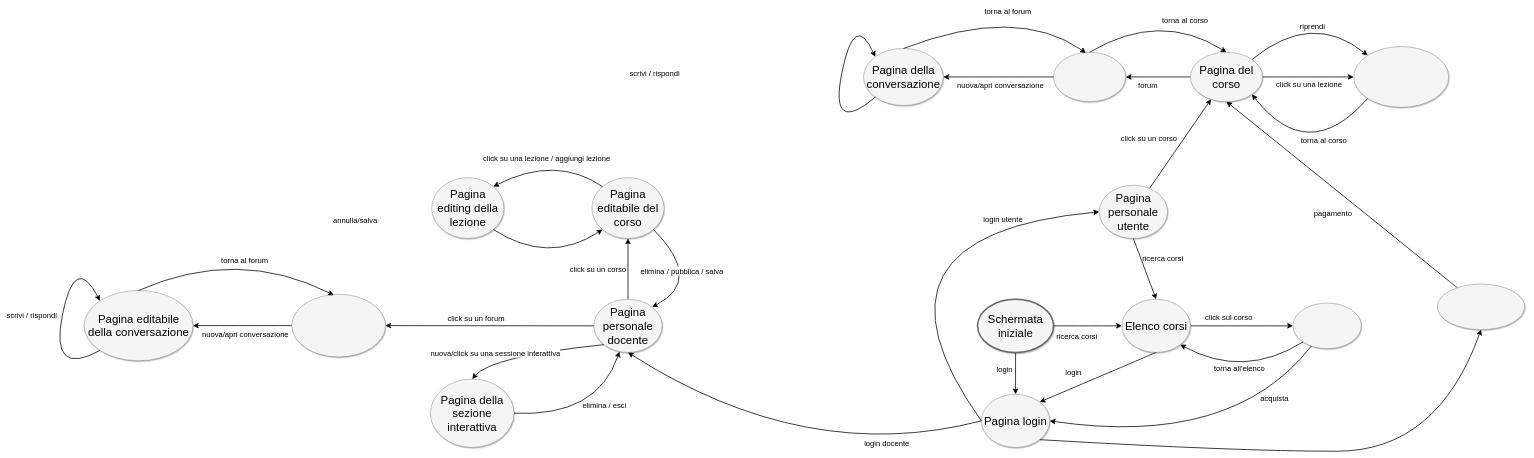
Some shapes in this 1534 by 458 pixel diagram are drawn without their labels. Here are the shapes that lost their labels. From the top down, the centre of each, then its label:
At pixel 1090 77: "Pagina del forum".
At pixel 1401 77: "Pagina della lezione".
At pixel 339 326: "Pagina editabile del forum".
At pixel 1327 326: "Anteprima corso".
At pixel 1481 307: "Pagina di pagamento".
